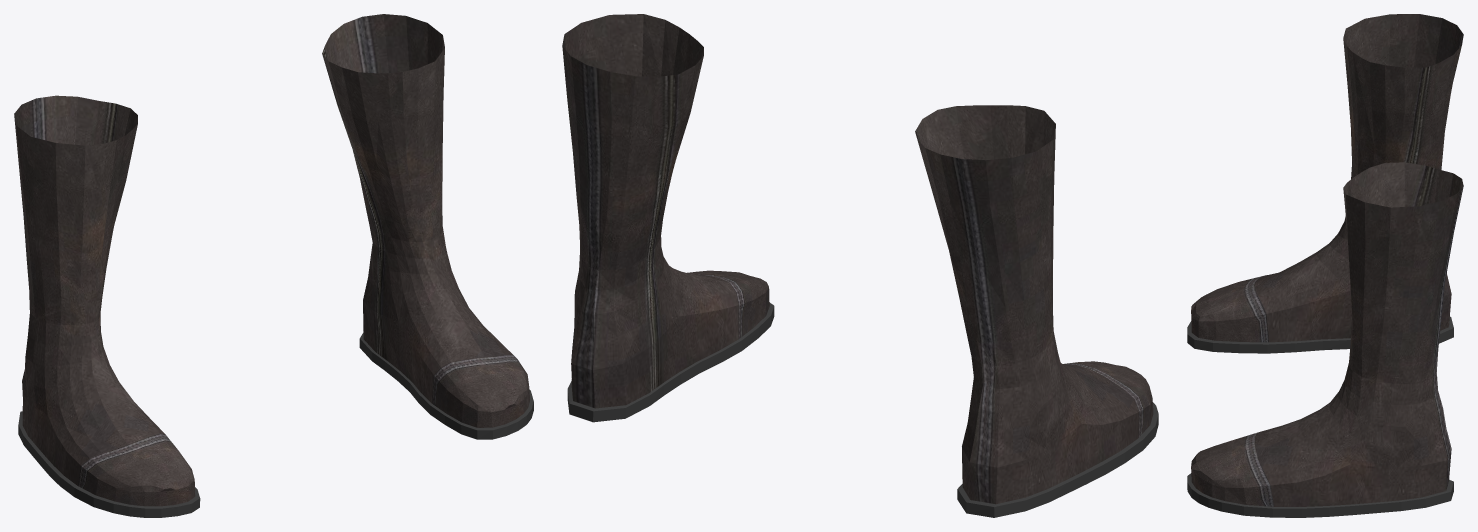
Rendered from mhw_madmanny_tight_leather_boots.glb.
3 views of the same model, side by side, from view 1: azimuth 30°, elevation 25°; view 2: azimuth 150°, elevation 25°; view 3: azimuth 270°, elevation 25° (orthographic). The views are drawn at different scales.
Visible parts, largest first — view 1: mhw_madmanny_tight_leather_boots; view 2: mhw_madmanny_tight_leather_boots; view 3: mhw_madmanny_tight_leather_boots.
Boxes of the visible parts, box(x1,y1,x2,y2) form: mhw_madmanny_tight_leather_boots: box(14, 14, 533, 517); mhw_madmanny_tight_leather_boots: box(562, 14, 1158, 517); mhw_madmanny_tight_leather_boots: box(1187, 14, 1463, 517).
Size of the model in its own units: 0.5423 by 0.3687 by 0.3014.
Materials: 1 (1 with a texture image).
